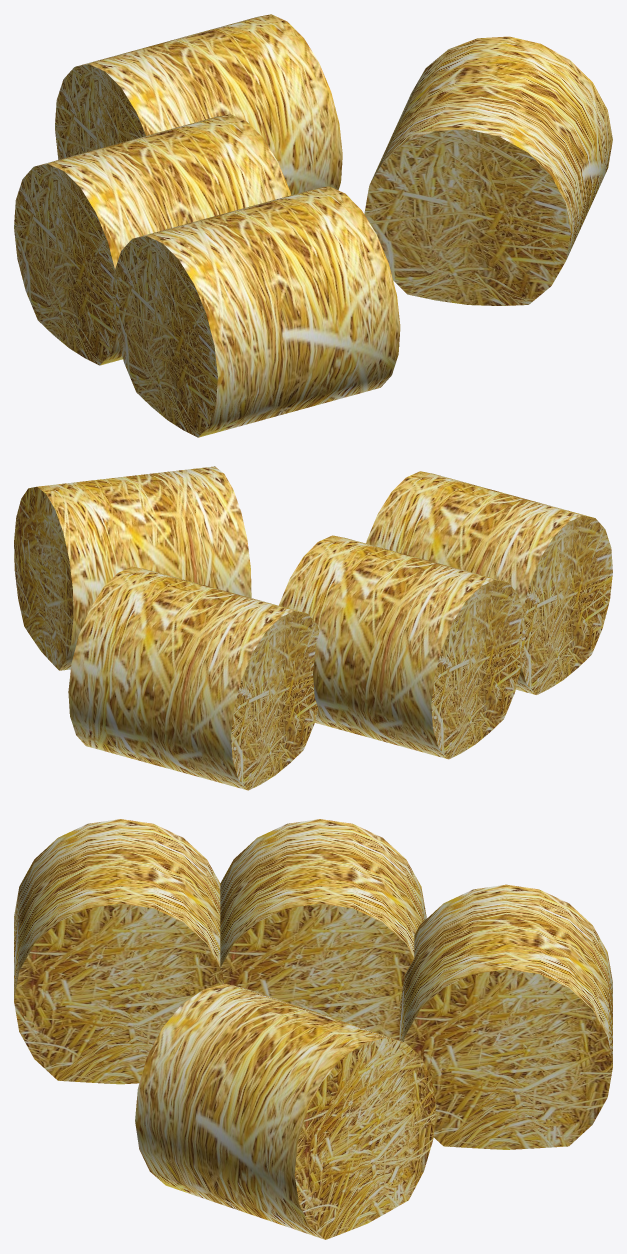
File: haybale_round_smol.fbx
The picture shows the model from 3 angles, top to bottom: view 1: azimuth 30°, elevation 25°; view 2: azimuth 150°, elevation 25°; view 3: azimuth 270°, elevation 25°; orthographic projection. The views are drawn at different scales.
Visible parts, largest first — view 1: polySurface21; view 2: polySurface21; view 3: polySurface21.
Part boxes in pixels (box(x1,y1,x2,y2)): polySurface21: box(14, 14, 612, 437); polySurface21: box(14, 466, 612, 790); polySurface21: box(14, 819, 612, 1239).
Bounding box in the file's own units: 97.45 × 31.9 × 93.14.
